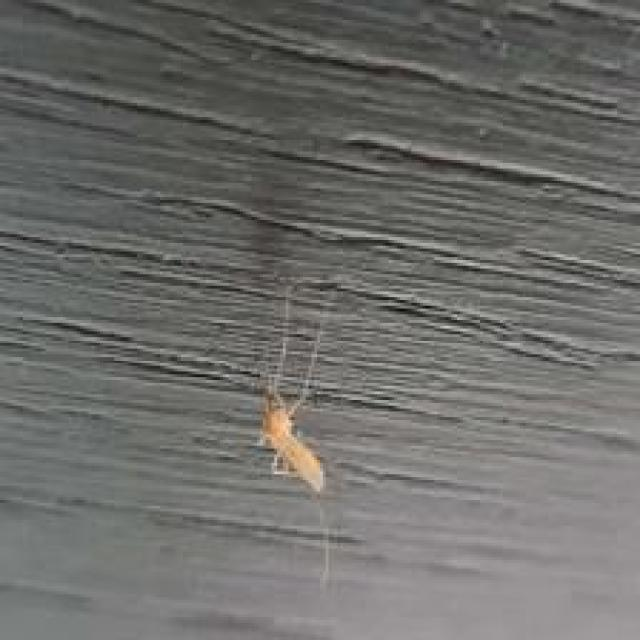Culex: (254, 277, 334, 497)
